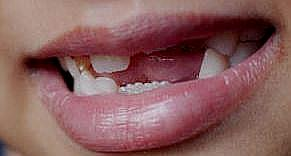Hypodontia: (128, 44, 209, 69)
